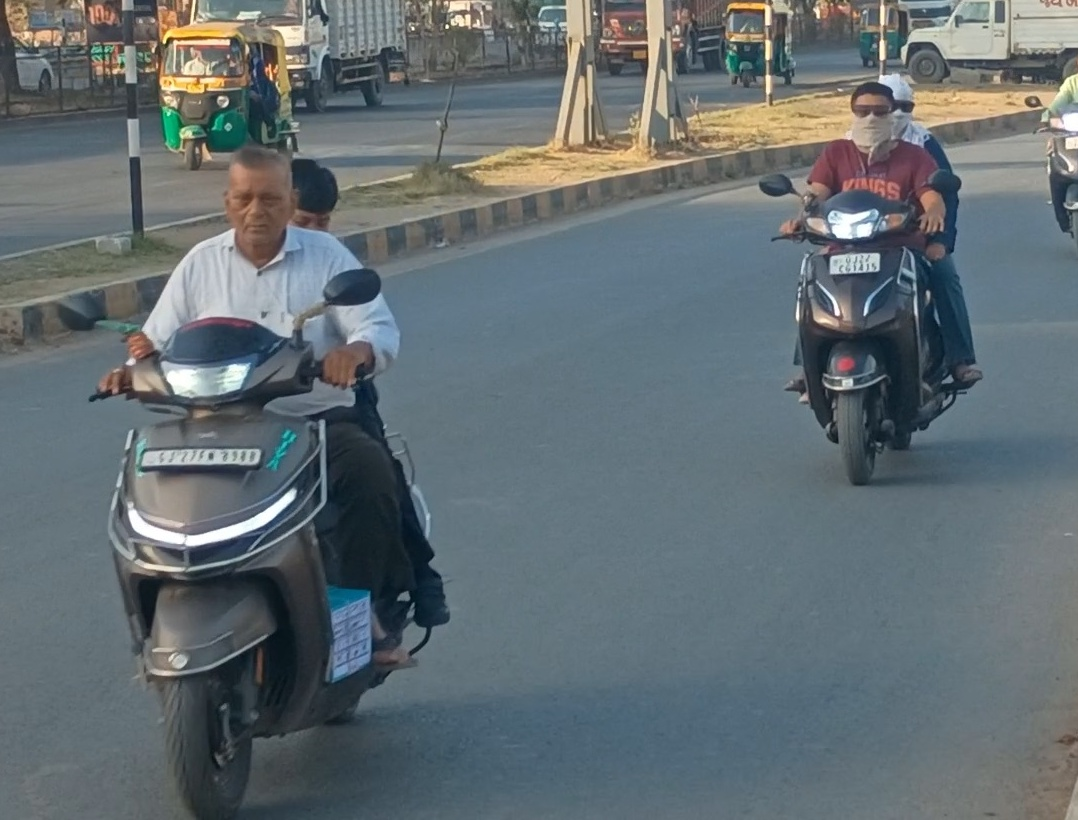BikeWithRider: (50, 134, 463, 820), (749, 67, 994, 493)
NoHelmet: (210, 138, 304, 256), (278, 150, 349, 239), (837, 77, 909, 154), (867, 66, 924, 133)
